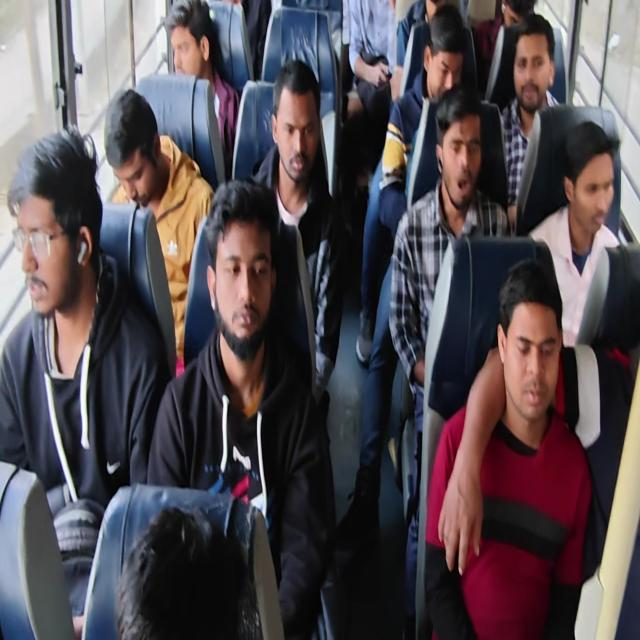person: (0, 1, 636, 638), (439, 119, 631, 582), (146, 176, 335, 636), (0, 124, 164, 636), (388, 83, 510, 634), (424, 258, 592, 638), (355, 3, 467, 366), (250, 58, 344, 405), (104, 88, 215, 376), (527, 120, 621, 348), (114, 506, 263, 638), (499, 13, 561, 231), (164, 0, 240, 177), (473, 0, 536, 109), (345, 0, 398, 121), (396, 0, 446, 61)
